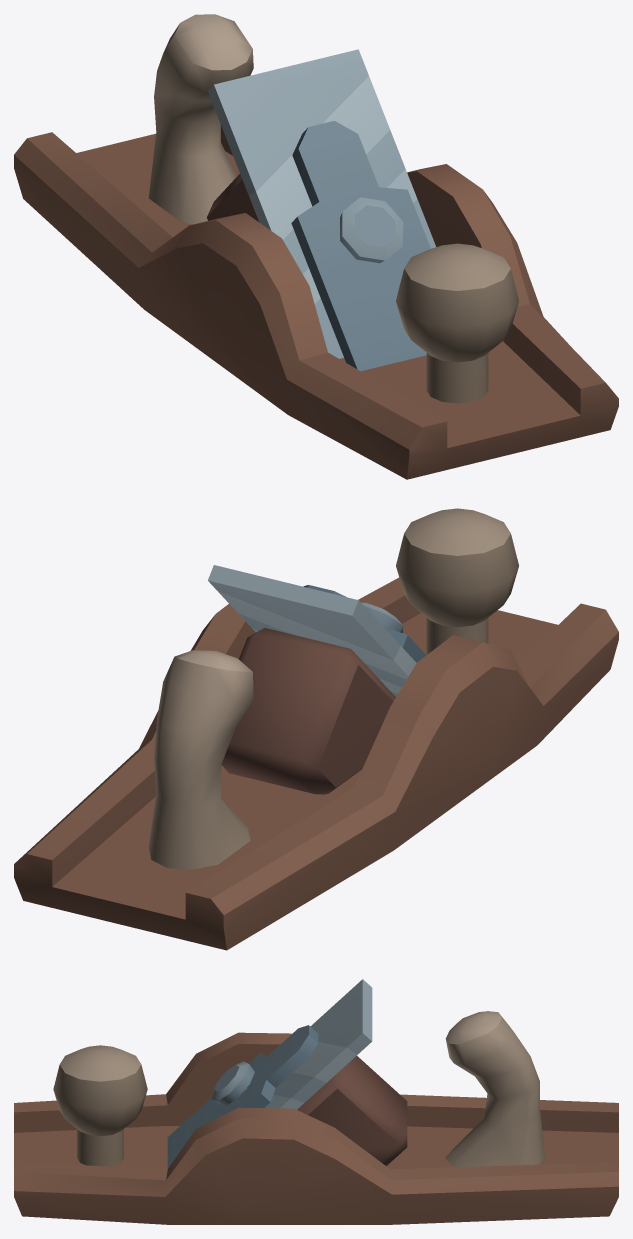
Rendered from handplane.glb.
3 renders of one model, top to bottom at view 1: azimuth 30°, elevation 25°; view 2: azimuth 150°, elevation 25°; view 3: azimuth 270°, elevation 25°, orthographic. The views are drawn at different scales.
Parts seen in each view (by area): view 1: handplane; view 2: handplane; view 3: handplane.
Part boxes in pixels (x1=…): handplane: x1=14, y1=14, x2=618, y2=479; handplane: x1=14, y1=508, x2=618, y2=950; handplane: x1=14, y1=979, x2=618, y2=1224.
Bounding box in the file's own units: 0.238 × 0.205 × 0.6346.
Materials: 1 (1 with a texture image).
